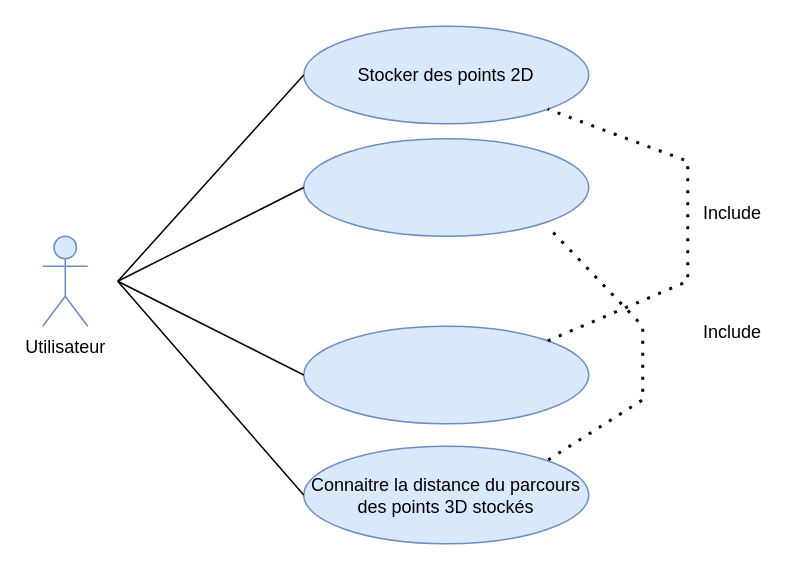
The diagram is 804 pixels wide and 570 high, and some of its shapes have lost their labels. Here are the shapes that lost their labels. From the top down, the centre of each, then its label:
the point at 445,186: Stocker des points 3D
the point at 445,374: Connaitre la distance du parcours des points 2D stockés
